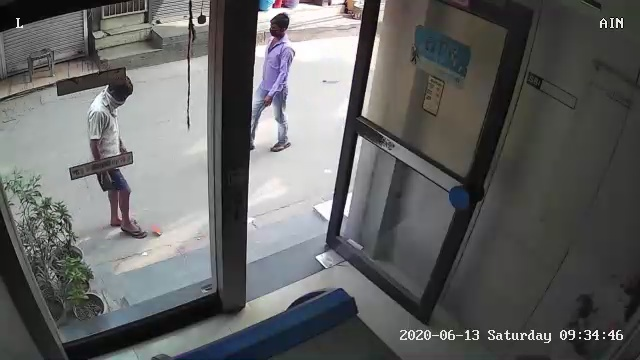open: (199, 4, 545, 326)
